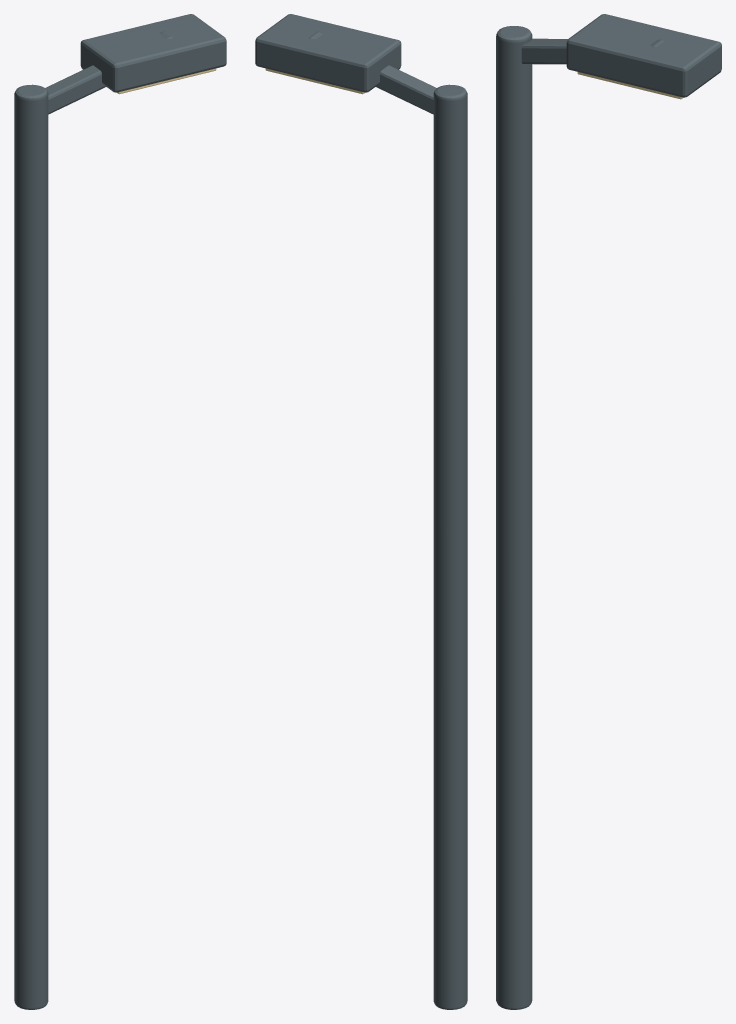
File: street_lamp.glb
3 renders of one model, left to right at view 1: azimuth 30°, elevation 25°; view 2: azimuth 150°, elevation 25°; view 3: azimuth 330°, elevation 25°, orthographic. The views are drawn at different scales.
Parts seen in each view (by area): view 1: street_lamp; view 2: street_lamp; view 3: street_lamp.
Boxes of the visible parts, x1,y1,x2,y2 form: street_lamp: [14, 14, 226, 1009]; street_lamp: [255, 14, 467, 1009]; street_lamp: [496, 14, 721, 1009].
Size of the model in its own units: 1.11 by 5.13 by 0.35.
